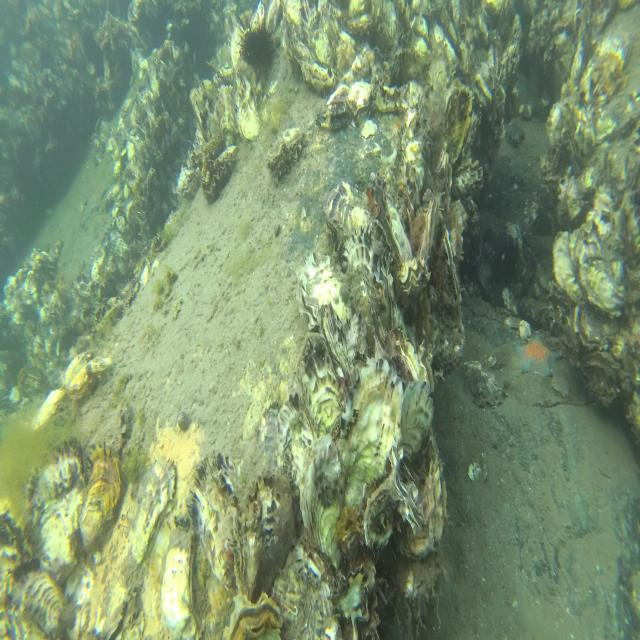echinus: (237, 15, 278, 78), (215, 67, 236, 91)
starfish: (512, 329, 563, 379)
